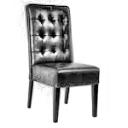chair_success: (17, 1, 102, 124)
